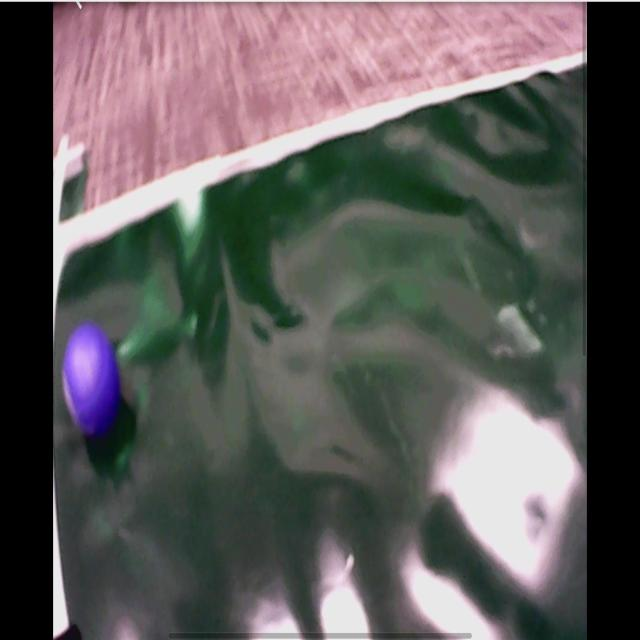ball: (63, 325, 124, 437)
